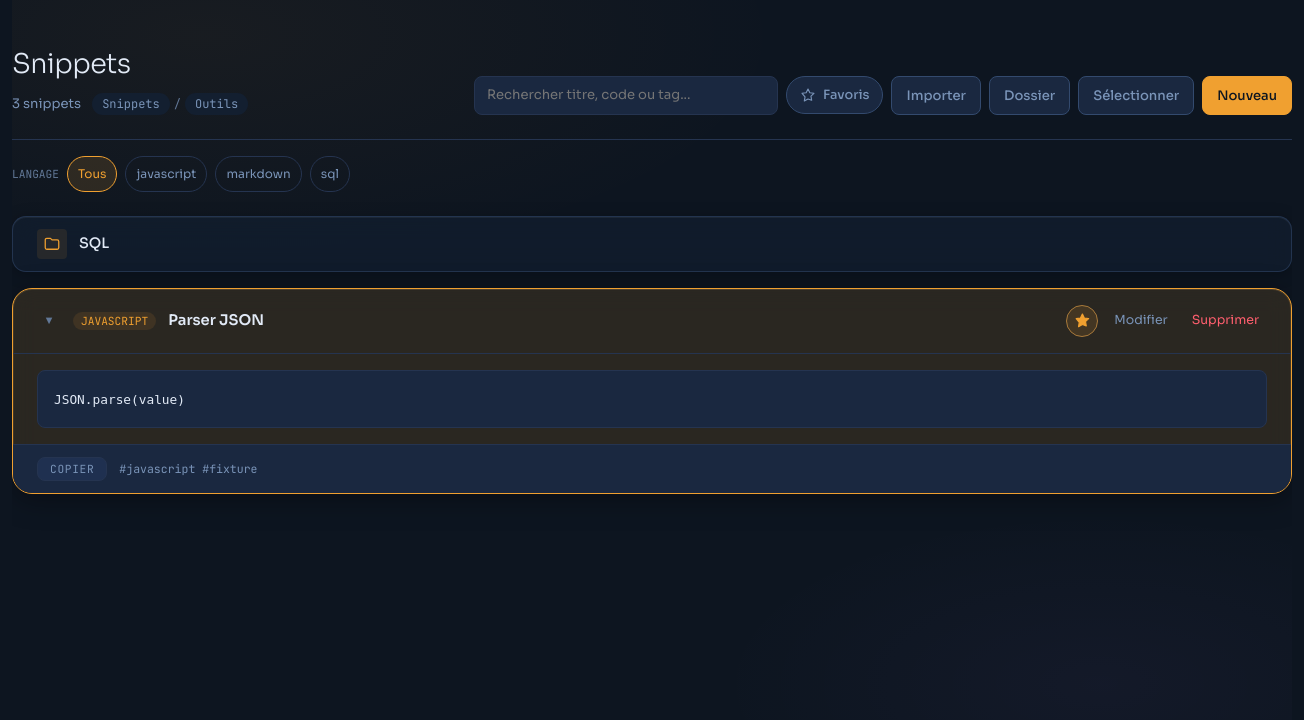
Test: SnippetsComponent › filters snippets and exposes a real route
This screenshot has width=1304, height=720.
Type "absent" into the search field with placeholder "Rechercher titre, code ou tag...".
click(626, 95); type("absent")  # box [474, 76, 778, 115]
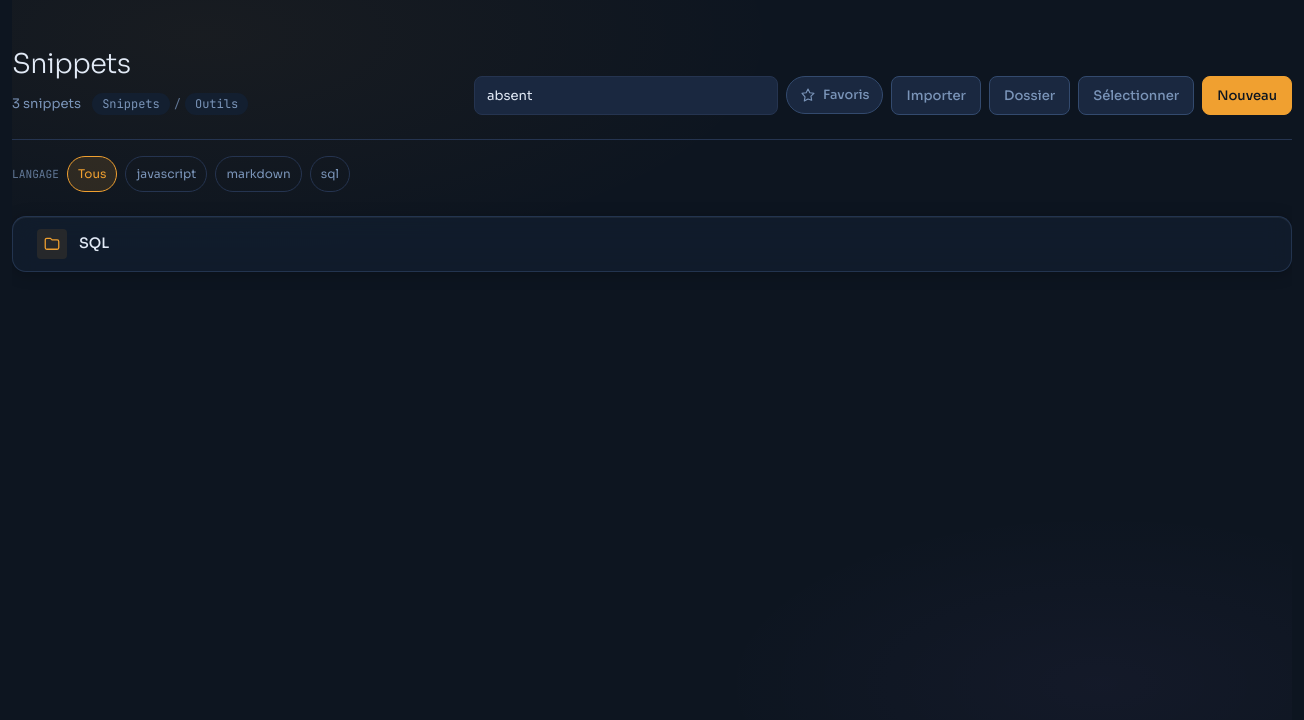
expect no elements with class "snippet-card" are shown: met
